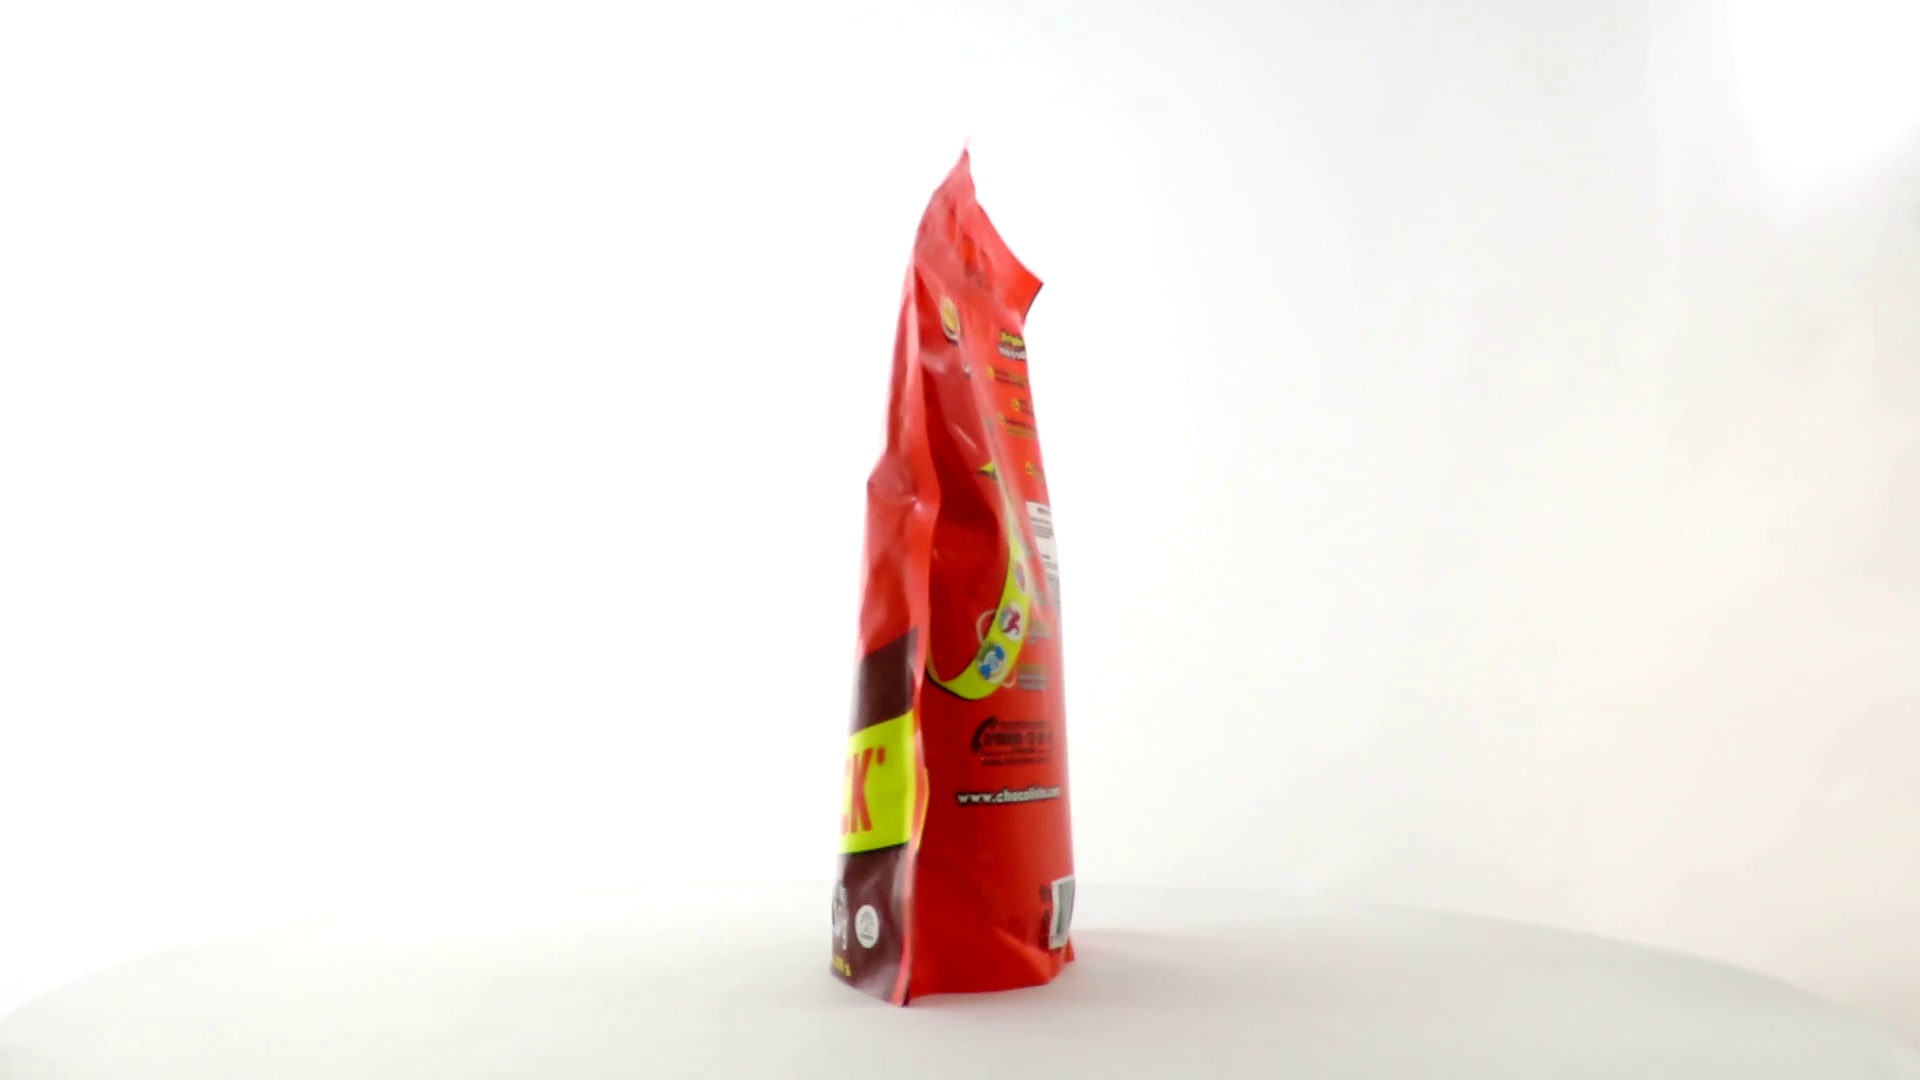COL0170103DYP36000: (825, 142, 1083, 1015)
